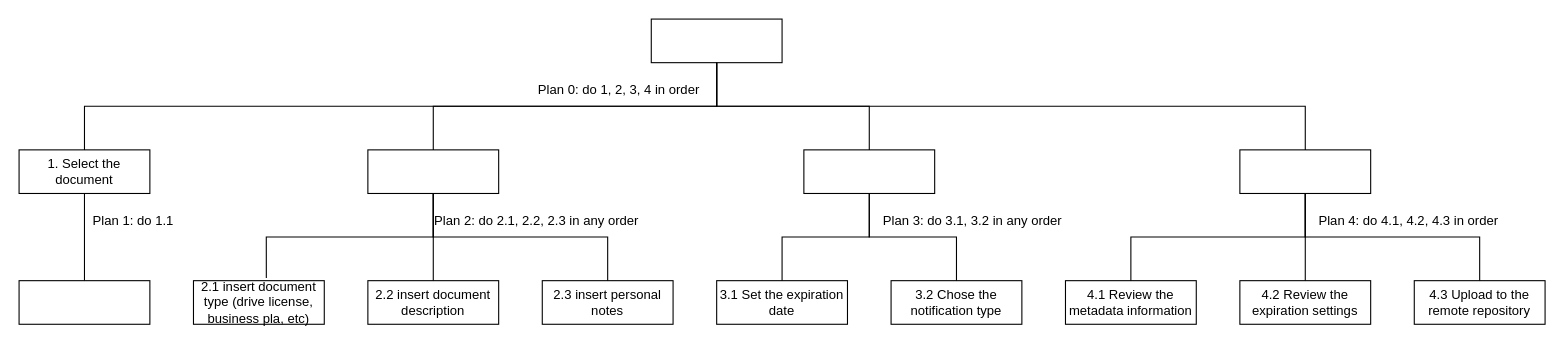
Some shapes in this 1564 by 344 pixel diagram are drawn without their labels. The shapes that lost their labels are listed below. From the top down, each one's box as (x1, y1, x2, y2) in pixels, then its label:
(650, 18, 782, 63): 0. add new document
(367, 149, 499, 193): 2. Fill metadata information
(803, 149, 935, 193): 3. Fill expiration settings
(1239, 149, 1371, 193): 4. Save the document
(18, 280, 150, 324): 1.1 Navigate the file system to find the document
